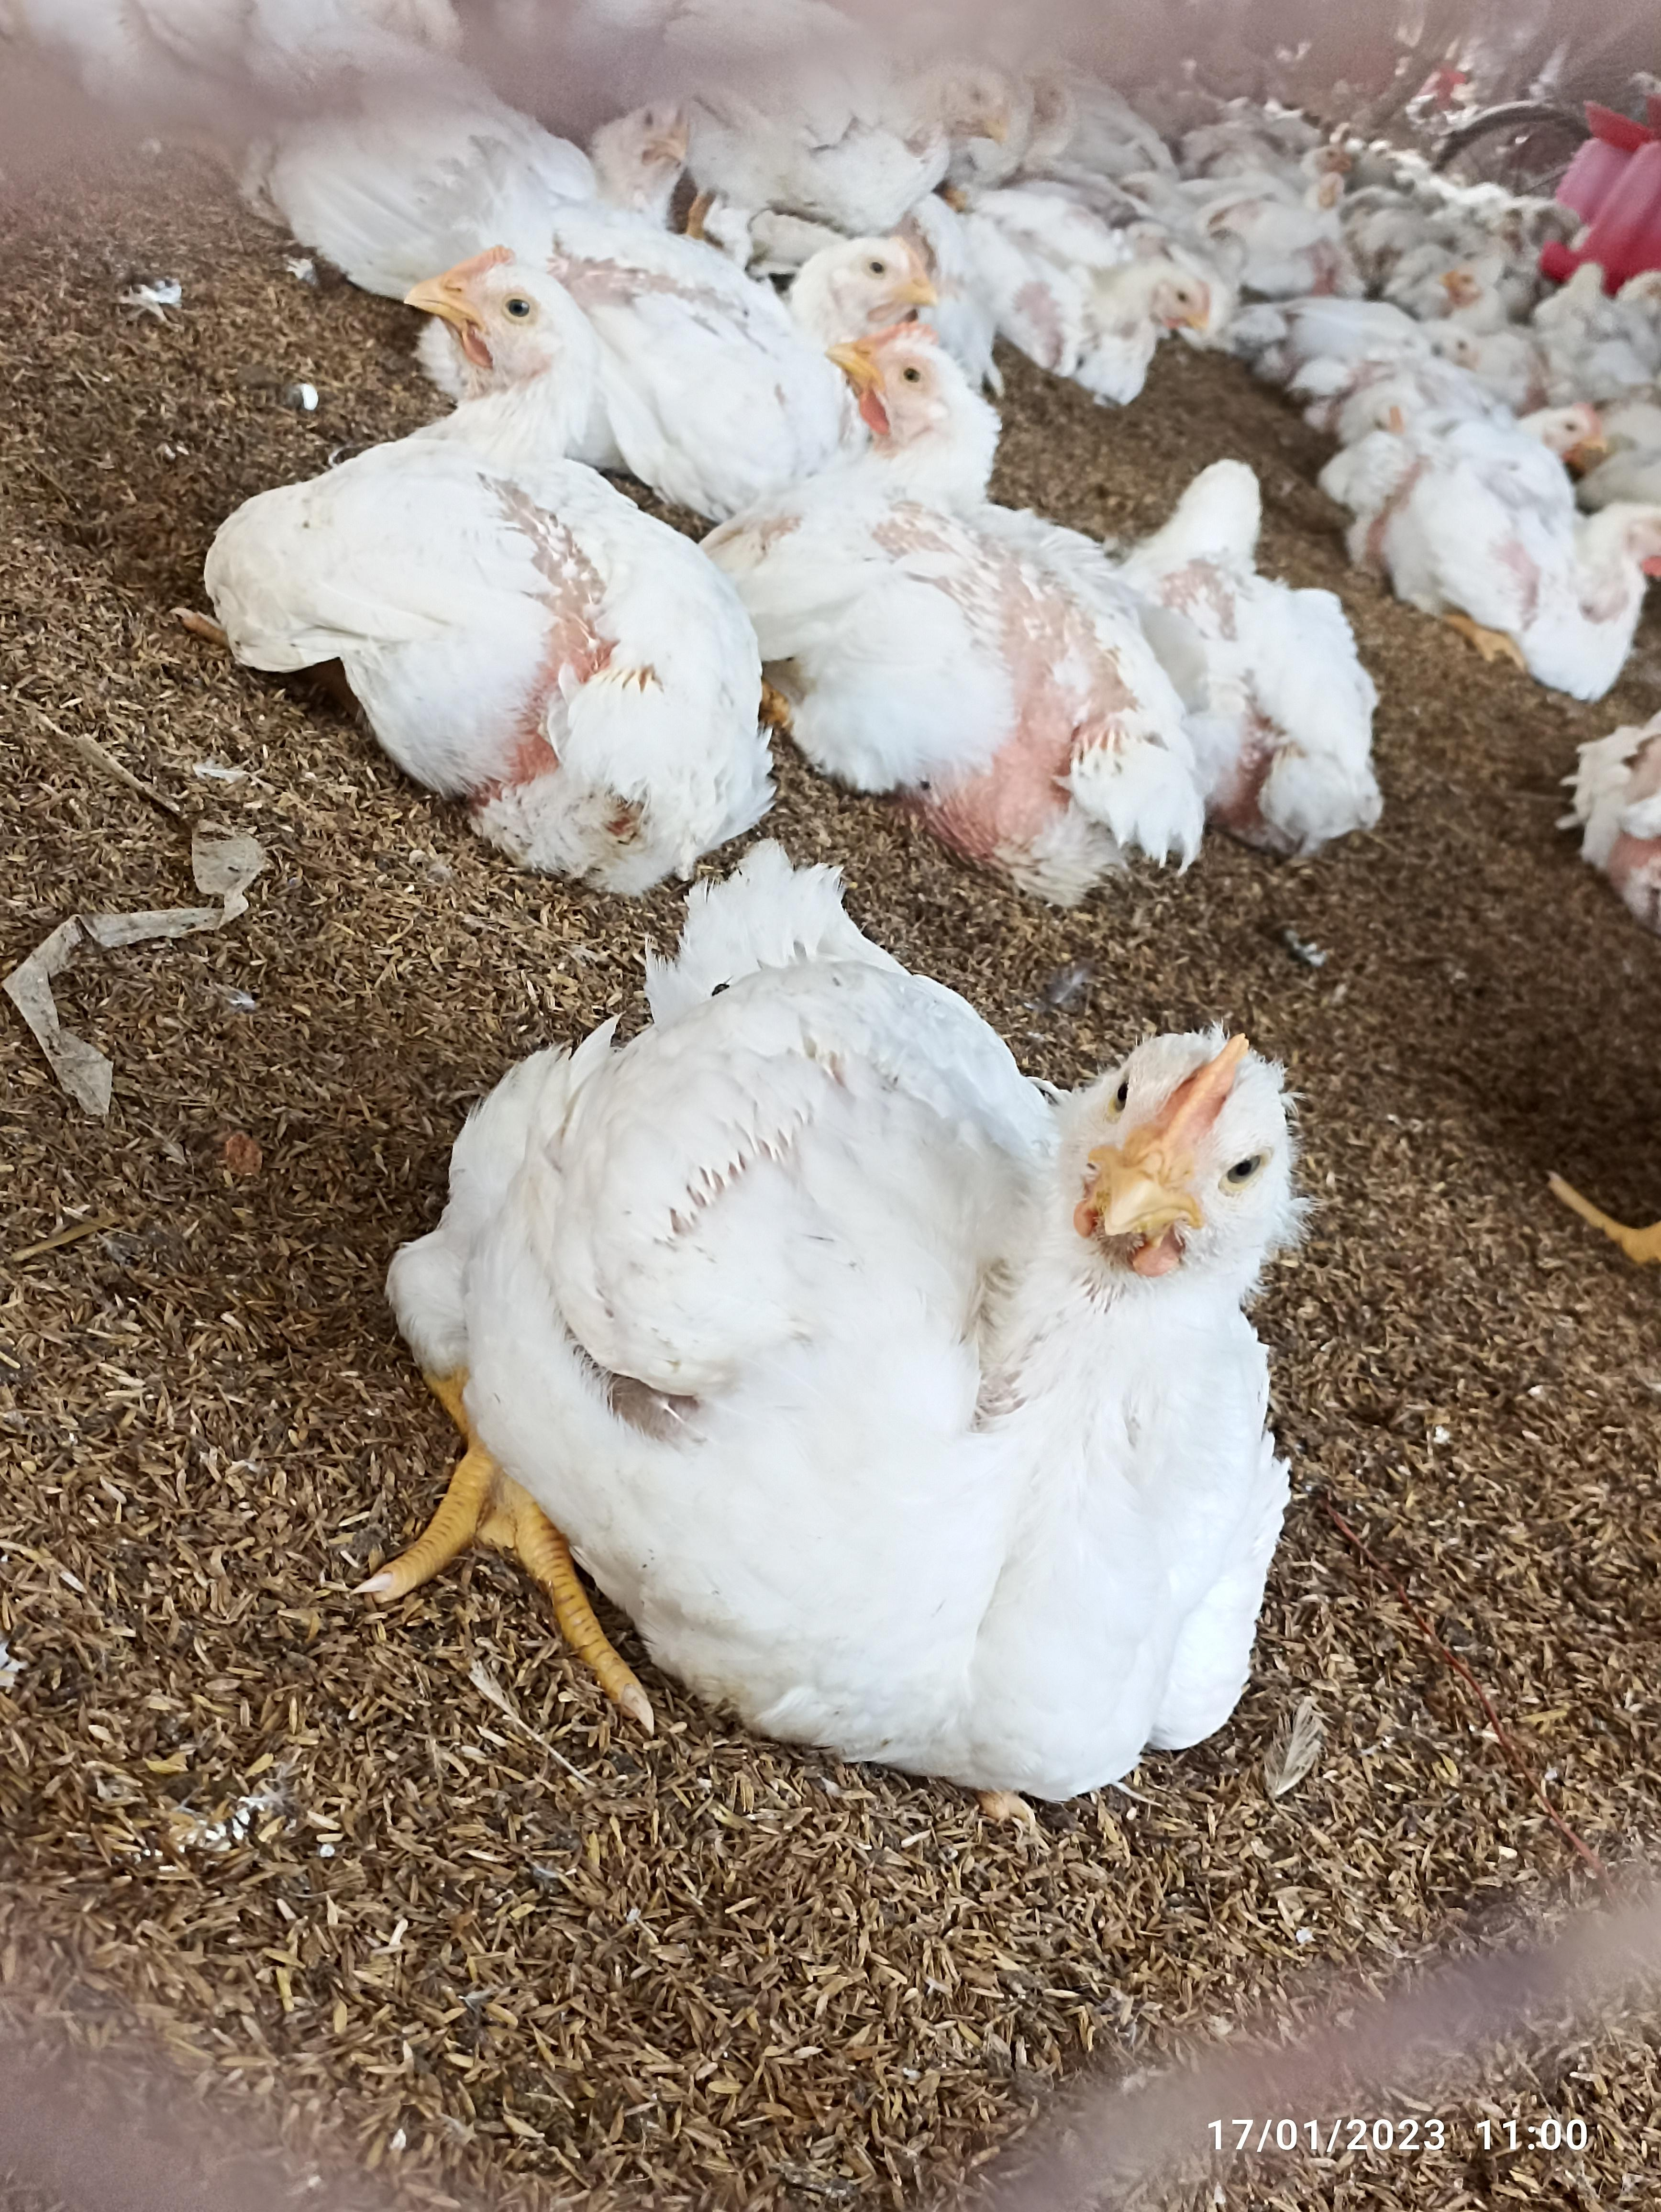Pollos: (461, 853, 1307, 1774), (236, 242, 782, 853), (714, 358, 1169, 816), (1085, 448, 1368, 836), (1375, 415, 1645, 698), (963, 202, 1227, 401), (602, 216, 935, 368)
